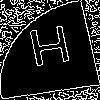H: (25, 25, 76, 77)
